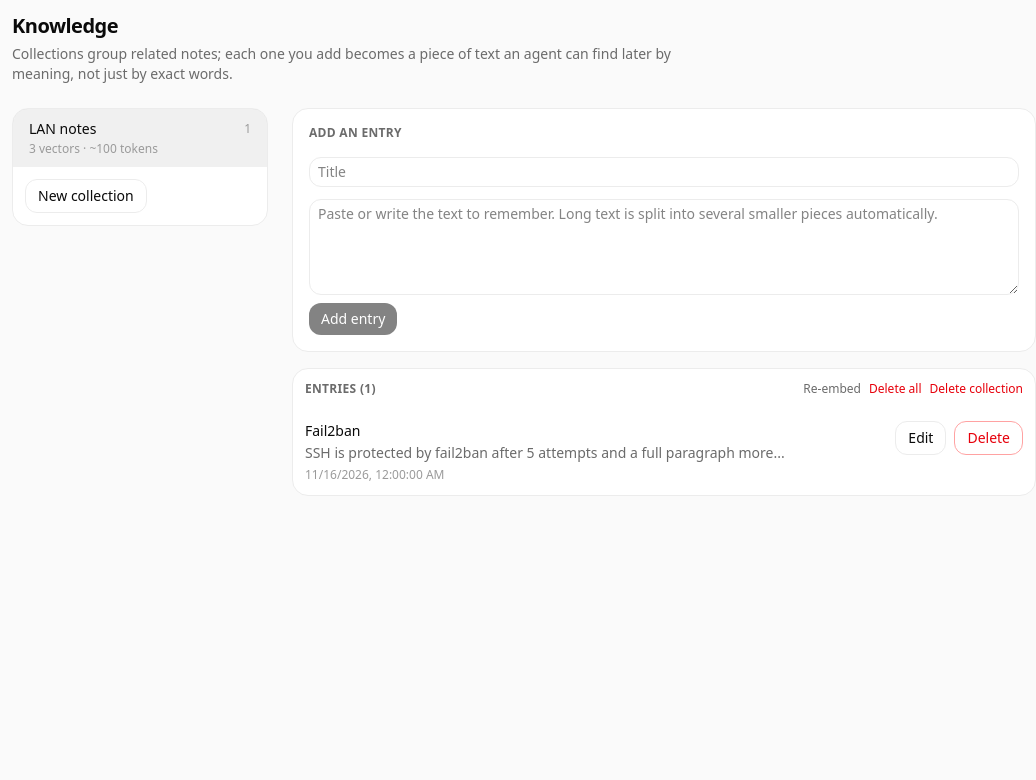
KnowledgeBrowsePage › loads the full content (not the truncated excerpt) when editing
The width and height of the screenshot is (1036, 780).
expect the text "Fail2ban" is shown: met, box [305,421,360,440]
Click the button "Edit": (921, 438) [895,421,946,455]
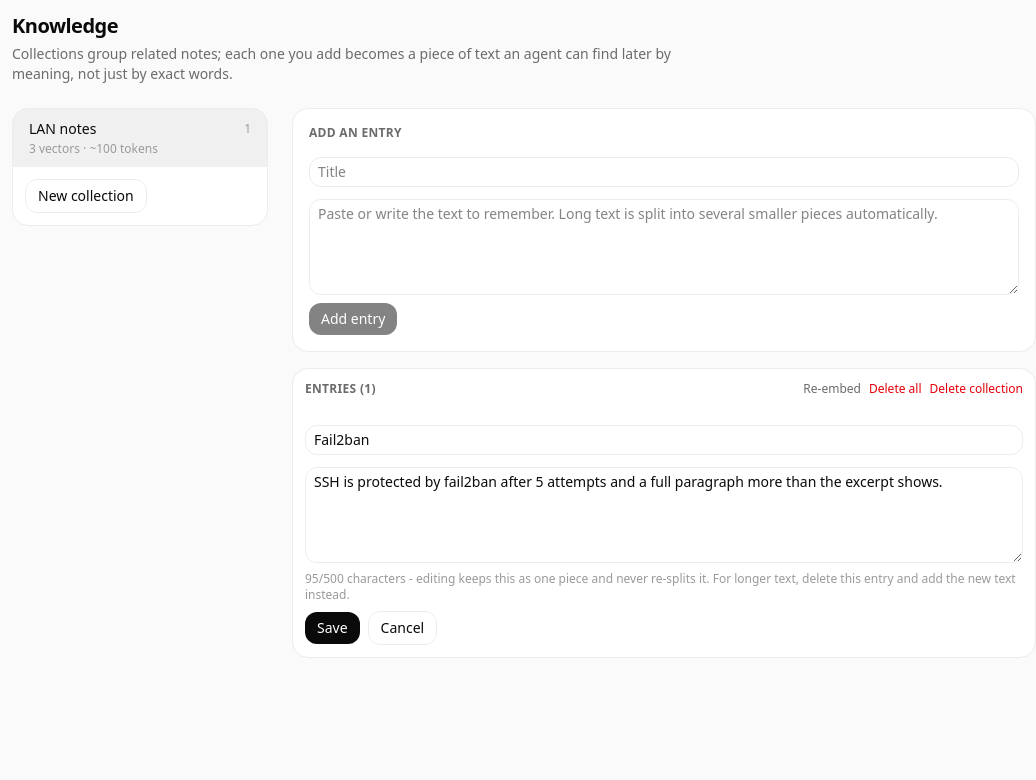
expect the text box showing "SSH is protected by fail2ban after 5 attempts and a full paragraph more than the excerpt shows." is shown: met, box [305,467,1023,563]
expect the text showing "SSH is protected by fail2ban after 5 attempts and a full paragraph more..." is gone: met
